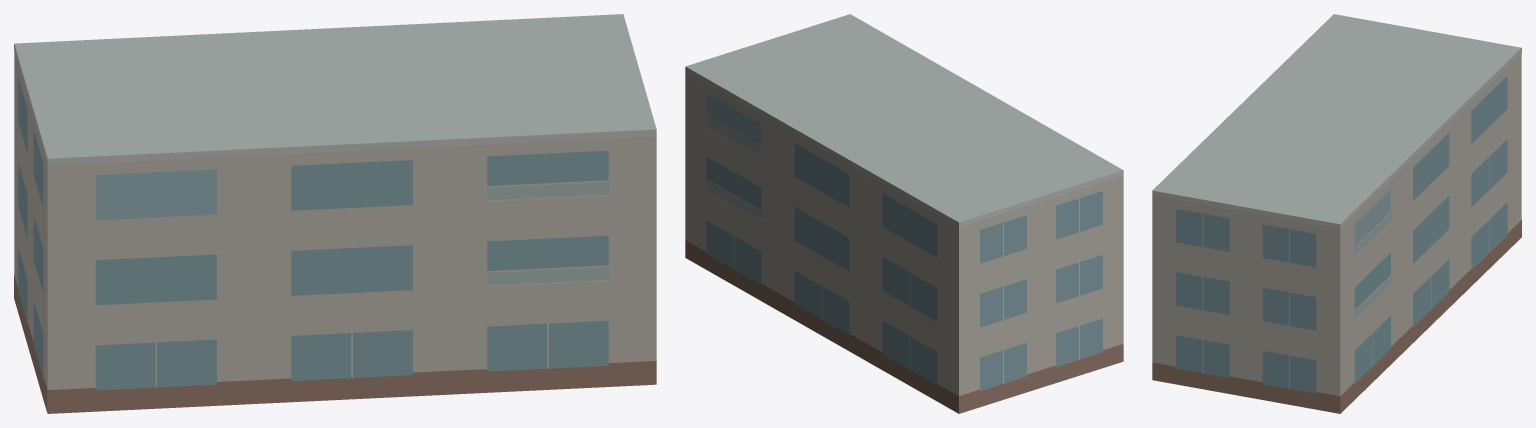
The model's file is survey-upis-32551318.glb.
3 views of the same model, side by side, from view 1: azimuth 30°, elevation 25°; view 2: azimuth 150°, elevation 25°; view 3: azimuth 270°, elevation 25° (orthographic). The views are drawn at different scales.
Visible parts, largest first — view 1: survey-upis-32551318.tmp; view 2: survey-upis-32551318.tmp; view 3: survey-upis-32551318.tmp.
Boxes of the visible parts, bbox=[...] form: survey-upis-32551318.tmp: bbox=[14, 14, 656, 413]; survey-upis-32551318.tmp: bbox=[685, 14, 1123, 413]; survey-upis-32551318.tmp: bbox=[1152, 14, 1521, 413].
Bounding box in the file's own units: 21.78 × 9.15 × 16.17.
